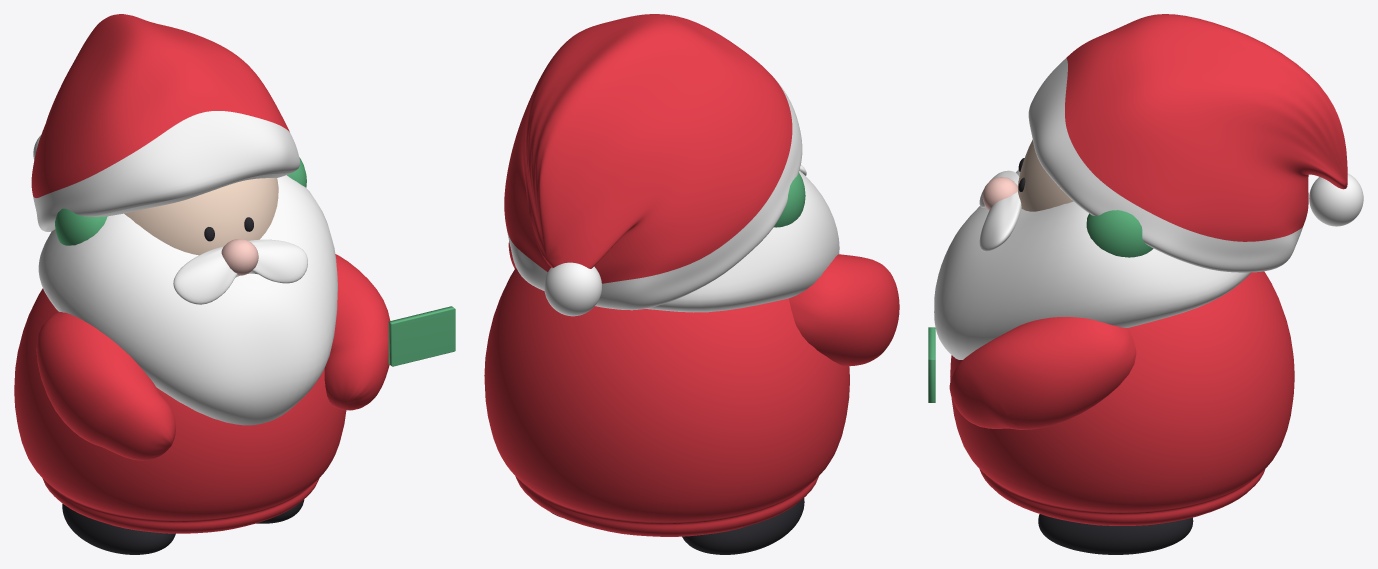
The model's file is subway.glb.
The picture shows the model from 3 angles, left to right: view 1: azimuth 30°, elevation 25°; view 2: azimuth 150°, elevation 25°; view 3: azimuth 270°, elevation 25°; orthographic projection. The views are drawn at different scales.
Visible parts, largest first — view 1: subway_red, subway_white, subway_skin, subway_green, subway_black, subway_nose; view 2: subway_red, subway_white, subway_black, subway_green; view 3: subway_red, subway_white, subway_black, subway_green, subway_skin, subway_nose.
Part boxes in pixels (x1=…): subway_red: x1=14, y1=14, x2=390, y2=533; subway_white: x1=33, y1=111, x2=337, y2=425; subway_skin: x1=124, y1=178, x2=278, y2=255; subway_green: x1=55, y1=157, x2=455, y2=366; subway_black: x1=62, y1=217, x2=304, y2=554; subway_nose: x1=221, y1=239, x2=258, y2=275; subway_red: x1=484, y1=14, x2=899, y2=536; subway_white: x1=506, y1=79, x2=839, y2=316; subway_black: x1=551, y1=498, x2=804, y2=554; subway_green: x1=774, y1=172, x2=805, y2=227; subway_red: x1=949, y1=14, x2=1347, y2=525; subway_white: x1=934, y1=58, x2=1363, y2=359; subway_black: x1=1018, y1=158, x2=1193, y2=554; subway_green: x1=928, y1=210, x2=1153, y2=402; subway_skin: x1=1018, y1=140, x2=1073, y2=211; subway_nose: x1=982, y1=177, x2=1017, y2=210.
Size of the model in its own units: 2.26 by 2.96 by 2.4.
